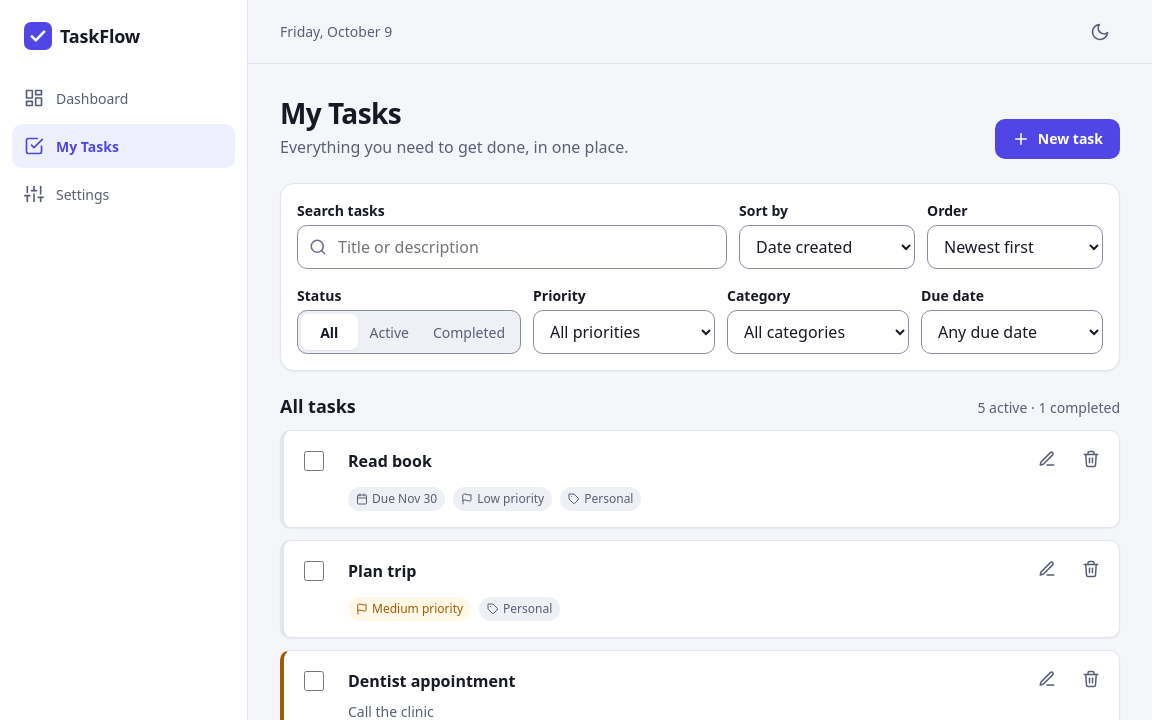
Test: search › can be cleared with the clear button, keeping focus in the search box
The image size is (1152, 720).
Type "milk" into the search field labelled "Search tasks". click: point(512, 247)
box: left=297, top=225, right=727, bottom=269
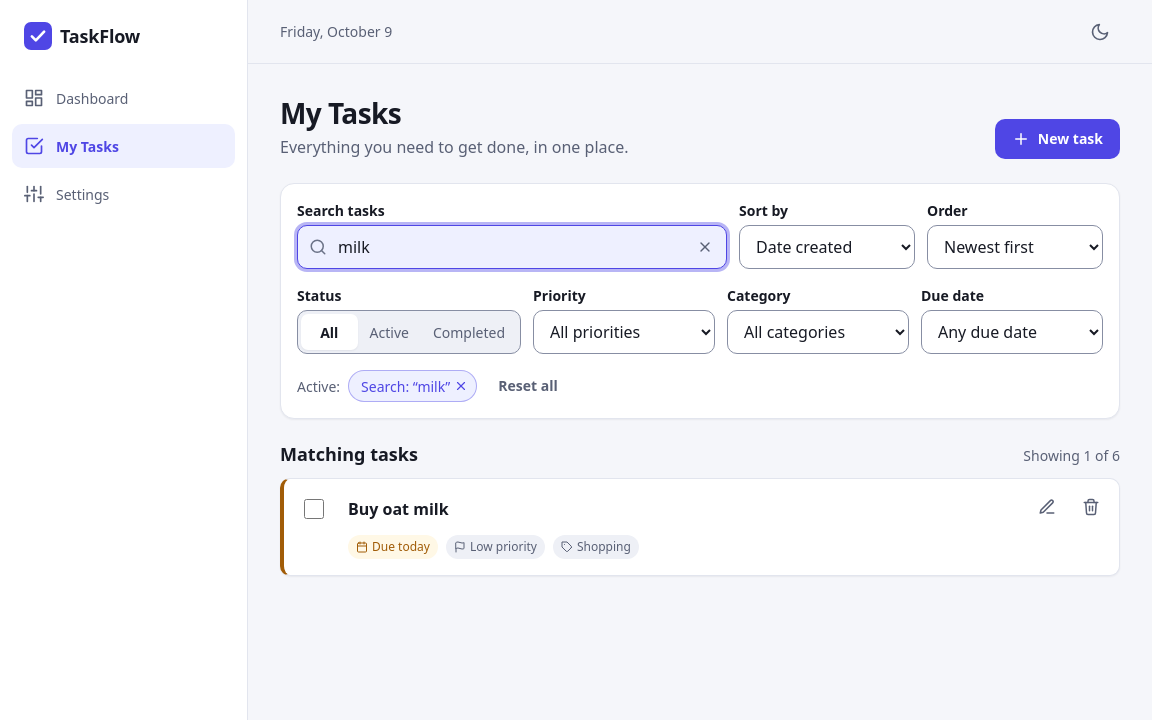
Click the button named "Clear search". click: point(705, 247)
box: left=687, top=229, right=723, bottom=265
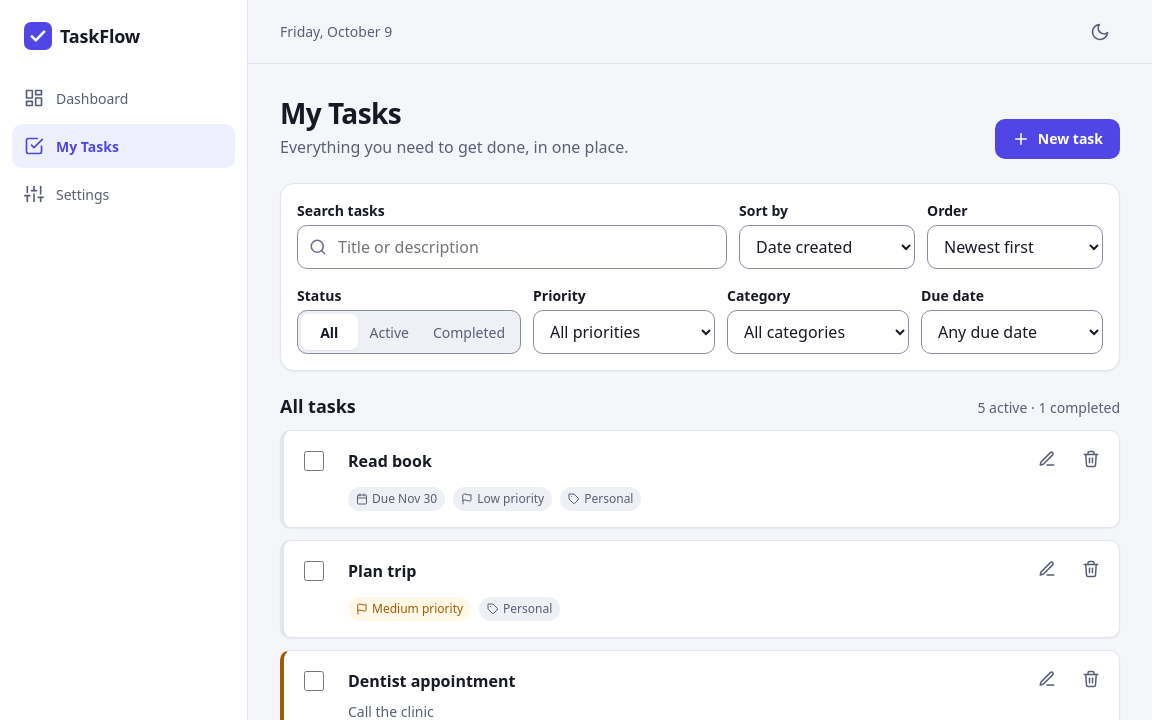
Now the search field labelled "Search tasks" is empty, box left=297, top=225, right=727, bottom=269
